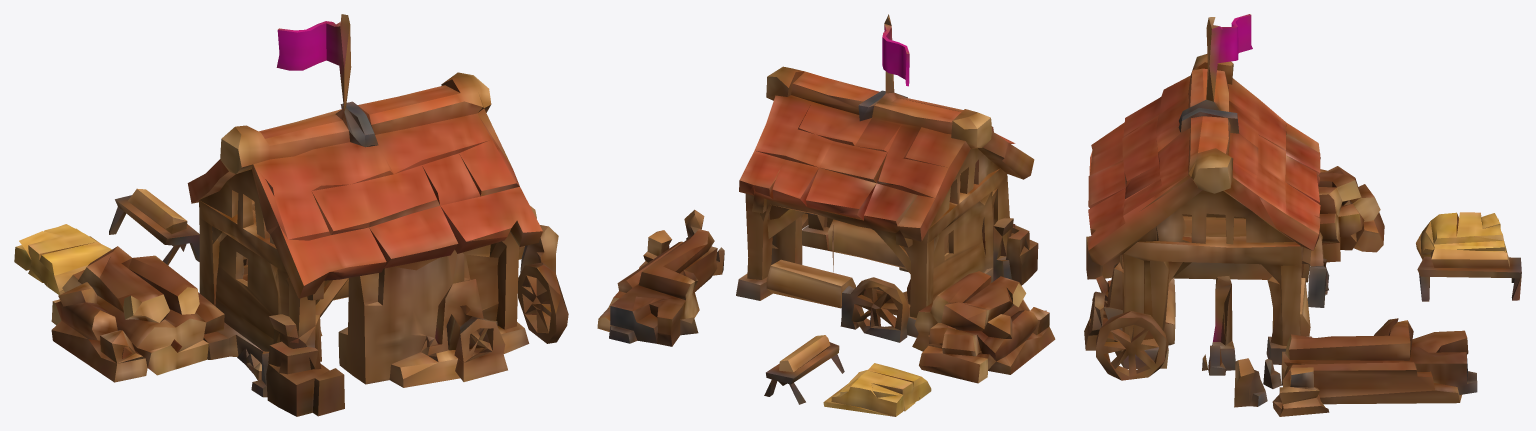
File: sawmill.lod2.glb
3 renders of one model, left to right at view 1: azimuth 30°, elevation 25°; view 2: azimuth 150°, elevation 25°; view 3: azimuth 270°, elevation 25°, orthographic. The views are drawn at different scales.
Visible parts, largest first — view 1: sawmill.lod2_uv; view 2: sawmill.lod2_uv; view 3: sawmill.lod2_uv.
Boxes of the visible parts, x1,y1,x2,y2 form: sawmill.lod2_uv: [14, 14, 568, 416]; sawmill.lod2_uv: [597, 14, 1055, 416]; sawmill.lod2_uv: [1084, 14, 1521, 416].
Bounding box in the file's own units: 1.91 × 1.29 × 1.74.
Materials: 1 (1 with a texture image).
